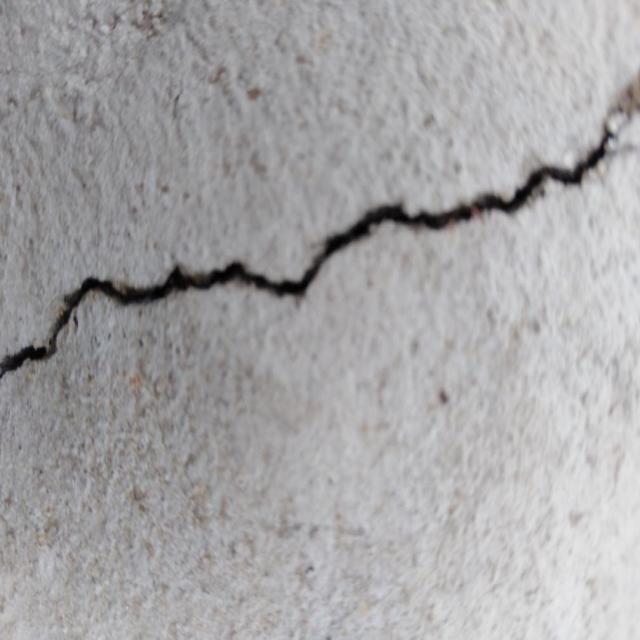diagonal crack: (0, 68, 639, 383)
